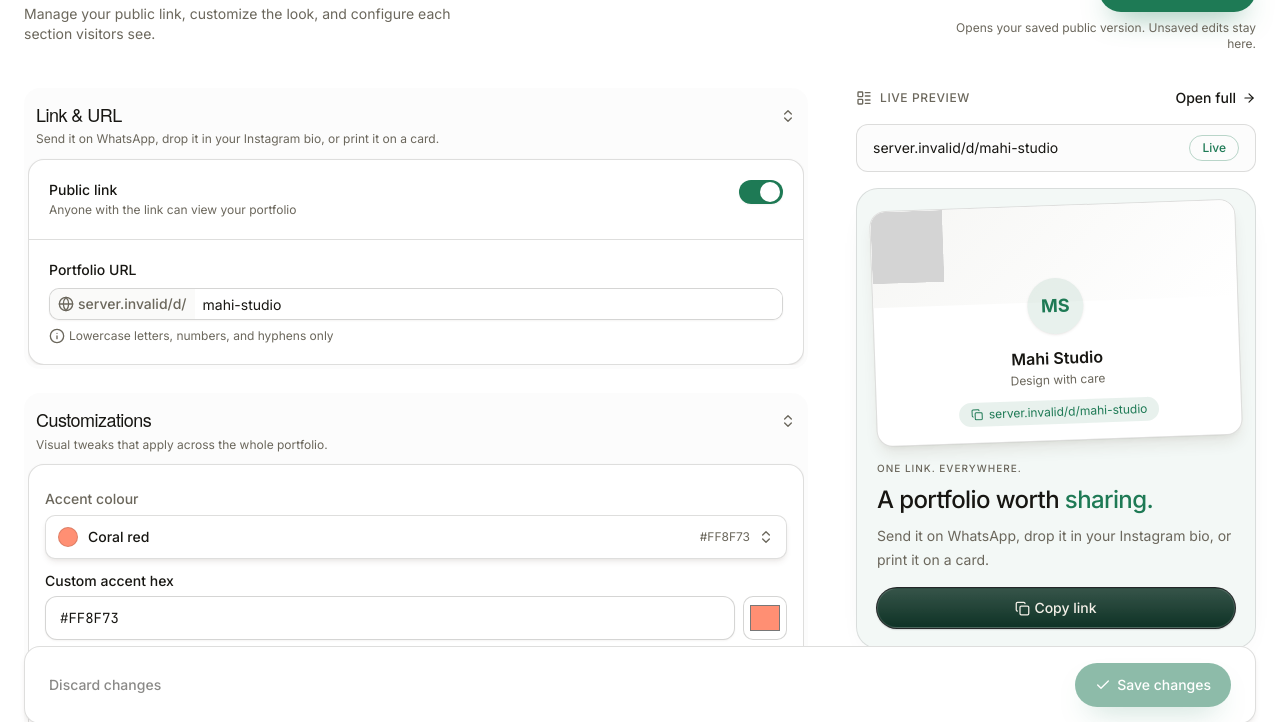
it: DesignerPortfolioSettings › custom accent colours › discards an applied custom value and its unfinished draft without saving
This screenshot has width=1280, height=722.
Replace the text in the field labelled "Custom accent hex" with "#111111" at (390, 618), box [45, 596, 735, 640]
(page scrolled)
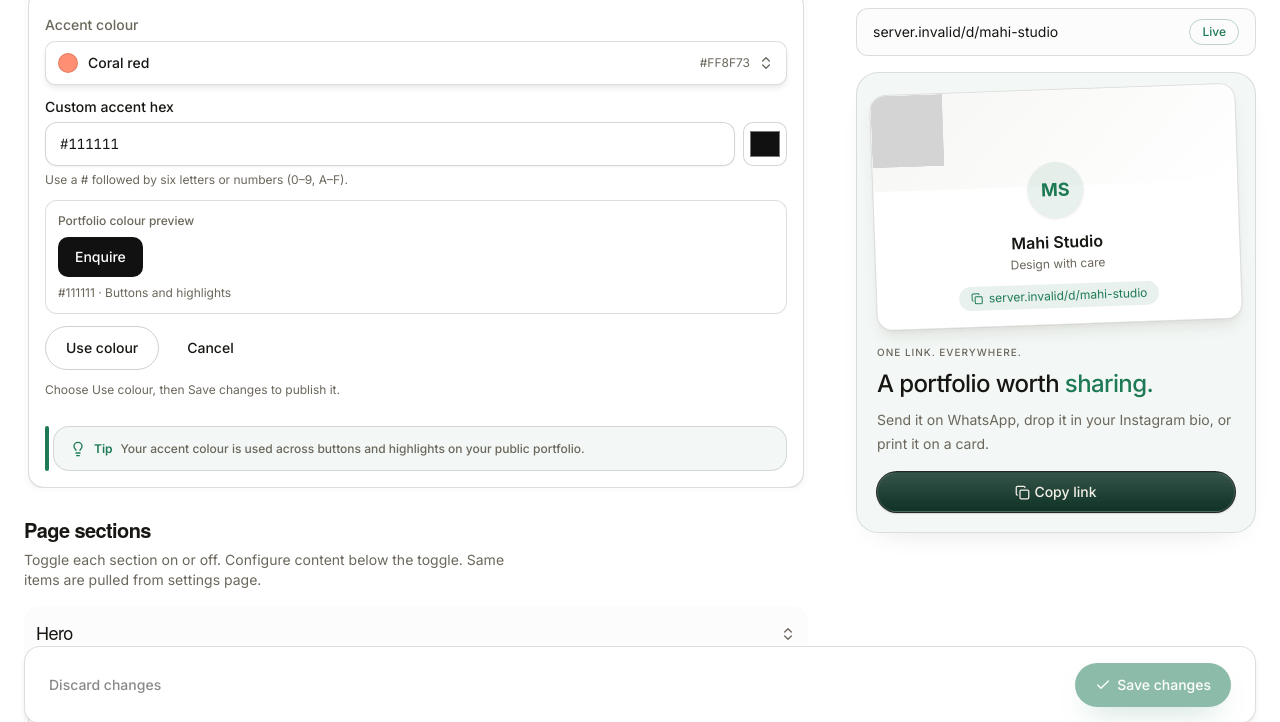
Click the button "Use colour" at (102, 348), box [45, 326, 159, 370]
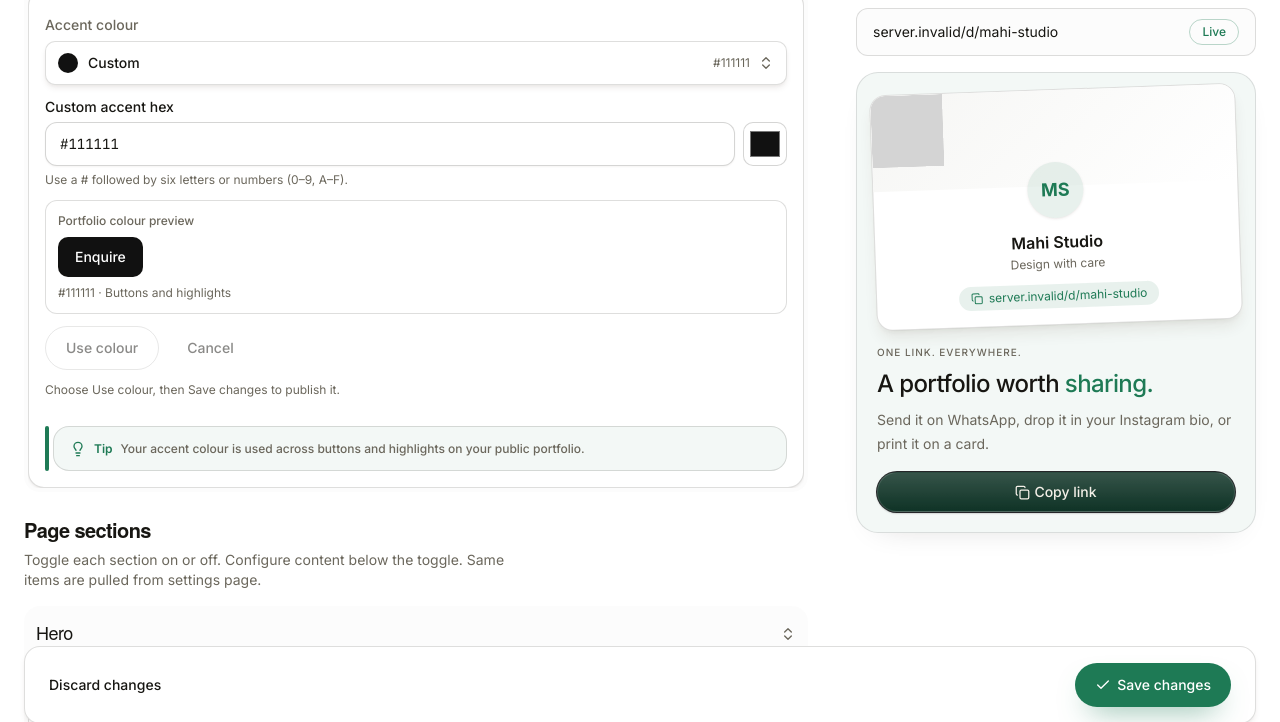
Replace the text in the field labelled "Custom accent hex" with "#222222" at (390, 144), box [45, 122, 735, 166]
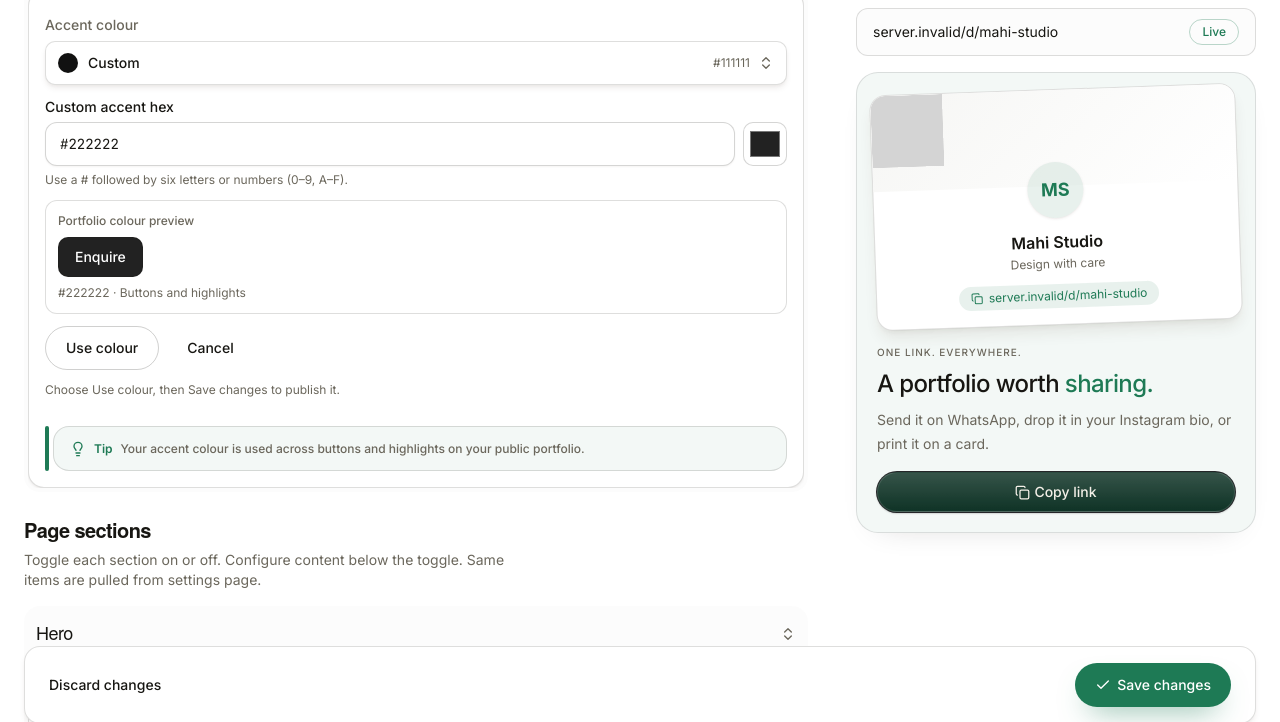
Click the button "Discard changes" at (105, 685), box [49, 675, 161, 695]
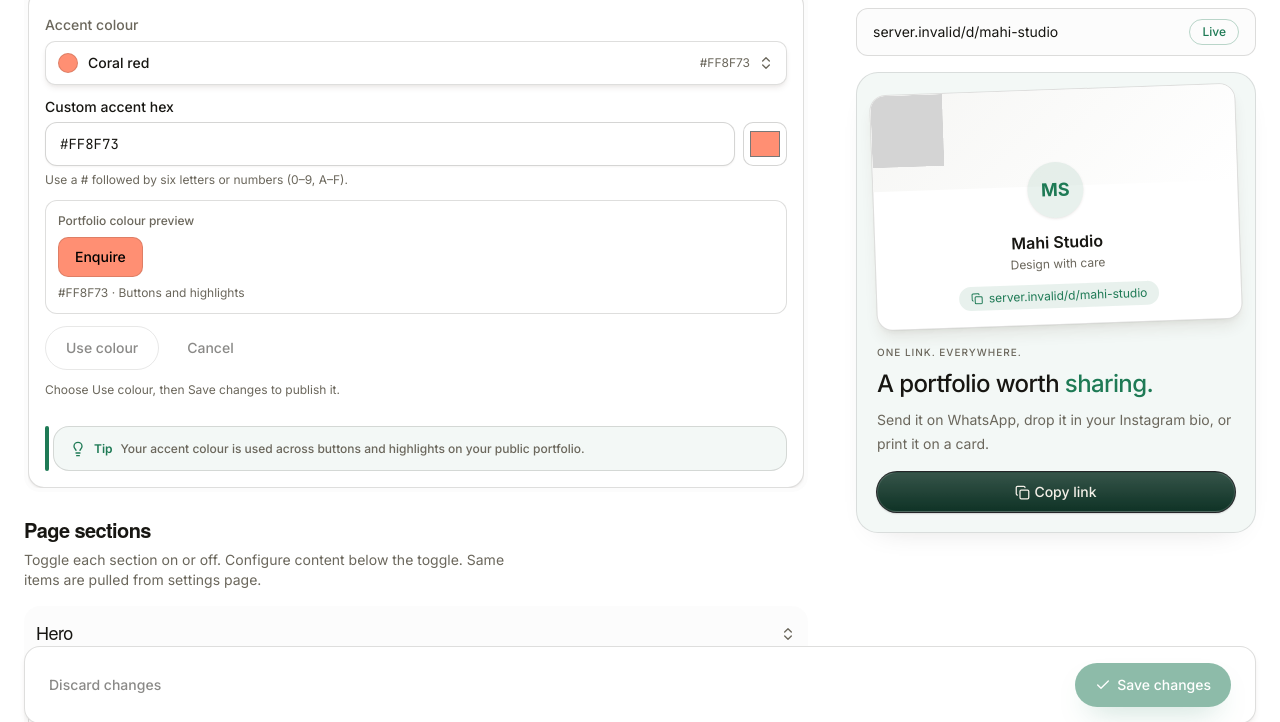
Expected: the field labelled "Custom accent hex" holds "#FF8F73", [45, 122, 735, 166]
Expected: the button "Save changes" is disabled, [1075, 663, 1231, 707]
